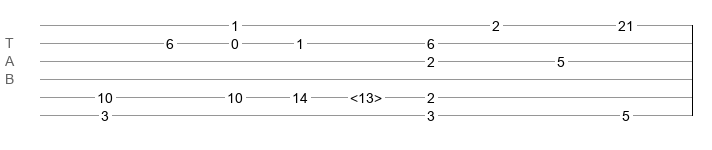0: (231, 36, 239, 46)
1: (231, 18, 239, 28), (296, 36, 304, 46)
10: (97, 90, 113, 100), (227, 90, 243, 100)
14: (292, 90, 308, 100)
2: (427, 90, 435, 100), (427, 54, 435, 64), (492, 18, 500, 28)
21: (618, 18, 634, 28)
3: (101, 108, 109, 118), (427, 108, 435, 118)
5: (557, 54, 565, 64), (622, 108, 630, 118)
6: (166, 36, 174, 46), (427, 36, 435, 46)
harmonic: (350, 90, 382, 100)
